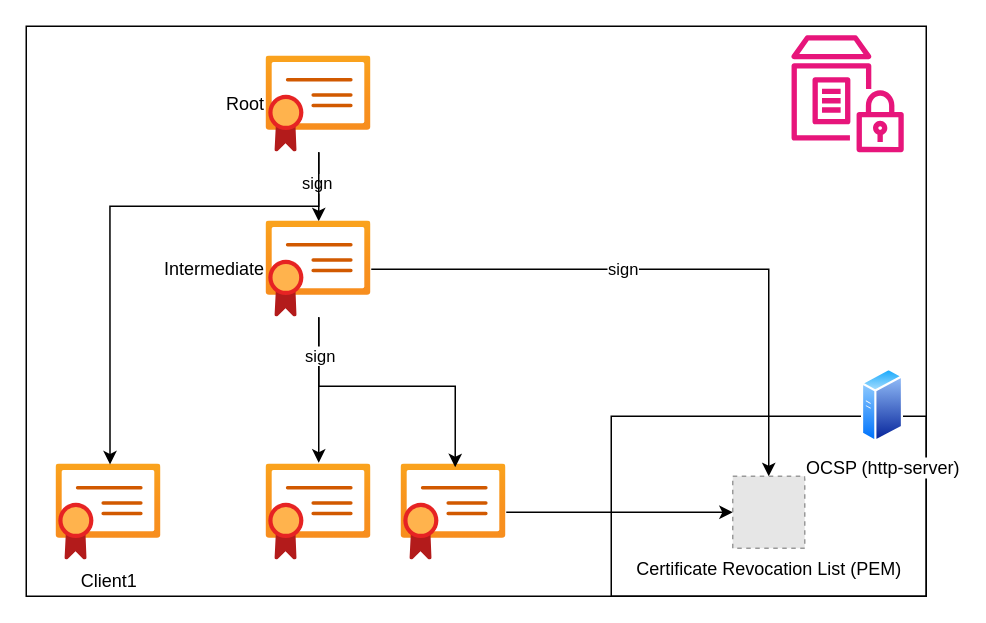
Some shapes in this 986 by 623 pixel diagram are drawn without their labels. Grey dashed boxes stand in for pictures. The centre of each missing label's shape, as x and y in pixels:
"Client2" belongs at (318,512).
"Client3 (Revoked)" belongs at (453,512).
"Truststore" belongs at (846,93).
